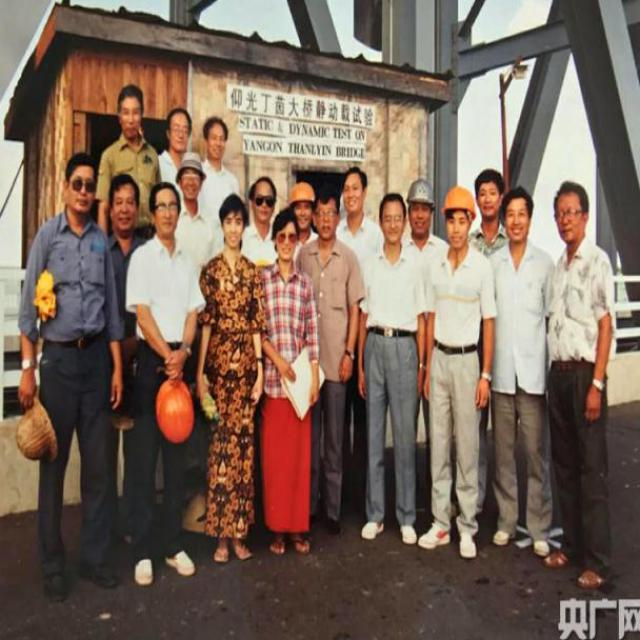helmet: (405, 167, 437, 254), (440, 173, 473, 256), (283, 178, 317, 231)
vest: (145, 375, 198, 452)
